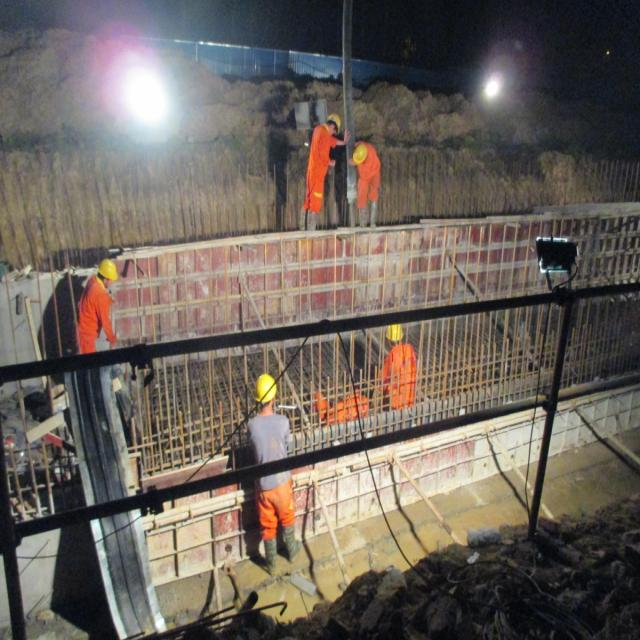truck: (341, 0, 357, 227)
